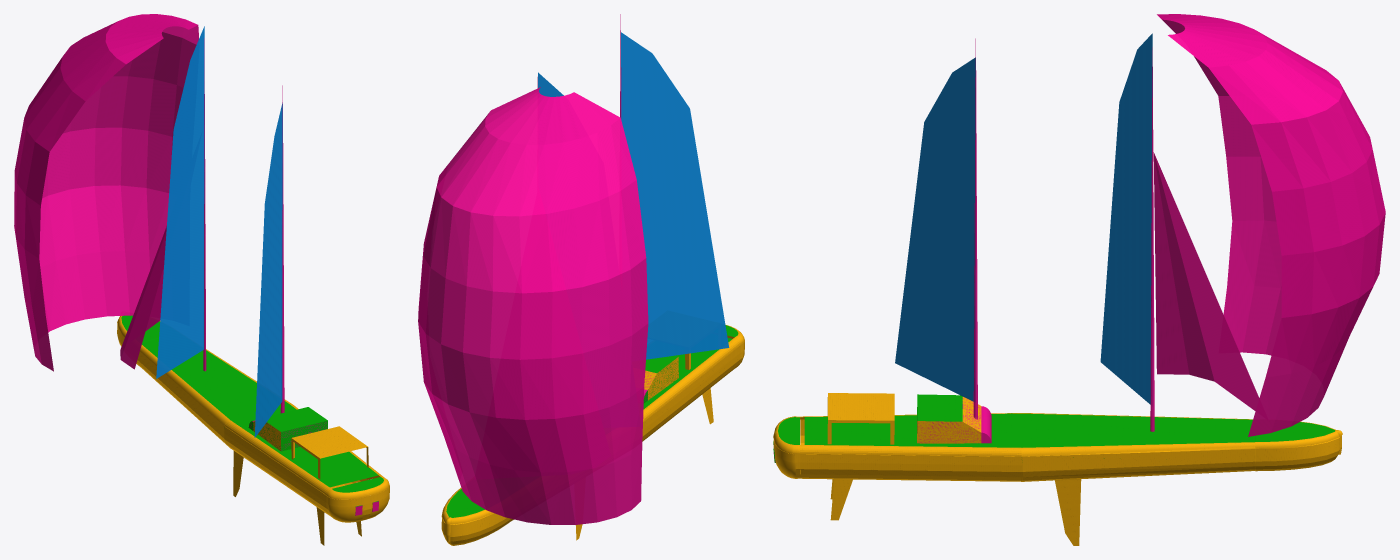
The model's file is TARA_SPI_TRIBORD.dae.
3 views of the same model, side by side, from view 1: azimuth 30°, elevation 25°; view 2: azimuth 150°, elevation 25°; view 3: azimuth 270°, elevation 25° (orthographic). The views are drawn at different scales.
Parts seen in each view (by area): view 1: SketchUp (×11); view 2: SketchUp (×5); view 3: SketchUp (×12).
Boxes of the visible parts, bbox=[...] form: SketchUp (×11): bbox=[14, 14, 389, 522]; SketchUp (×5): bbox=[418, 32, 744, 545]; SketchUp (×12): bbox=[773, 14, 1385, 545].
Bounding box in the file's own units: 66886 × 174538 × 161797.
